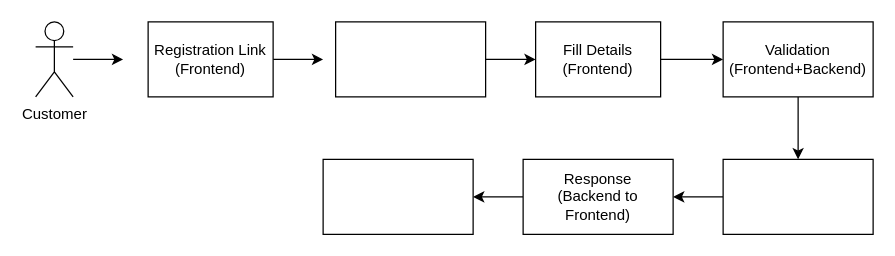
The diagram is 895 pixels wide and 256 high, and some of its shapes have lost their labels. The shapes that lost their labels are listed below. From the top down, each one's centre as x and y in pixels, then its label:
At [410,59]: "Registration Form (Frontend)".
At [397,196]: "Success/Failure Message (Frontend)".
At [797,196]: "DB Insertion (Backend)".
